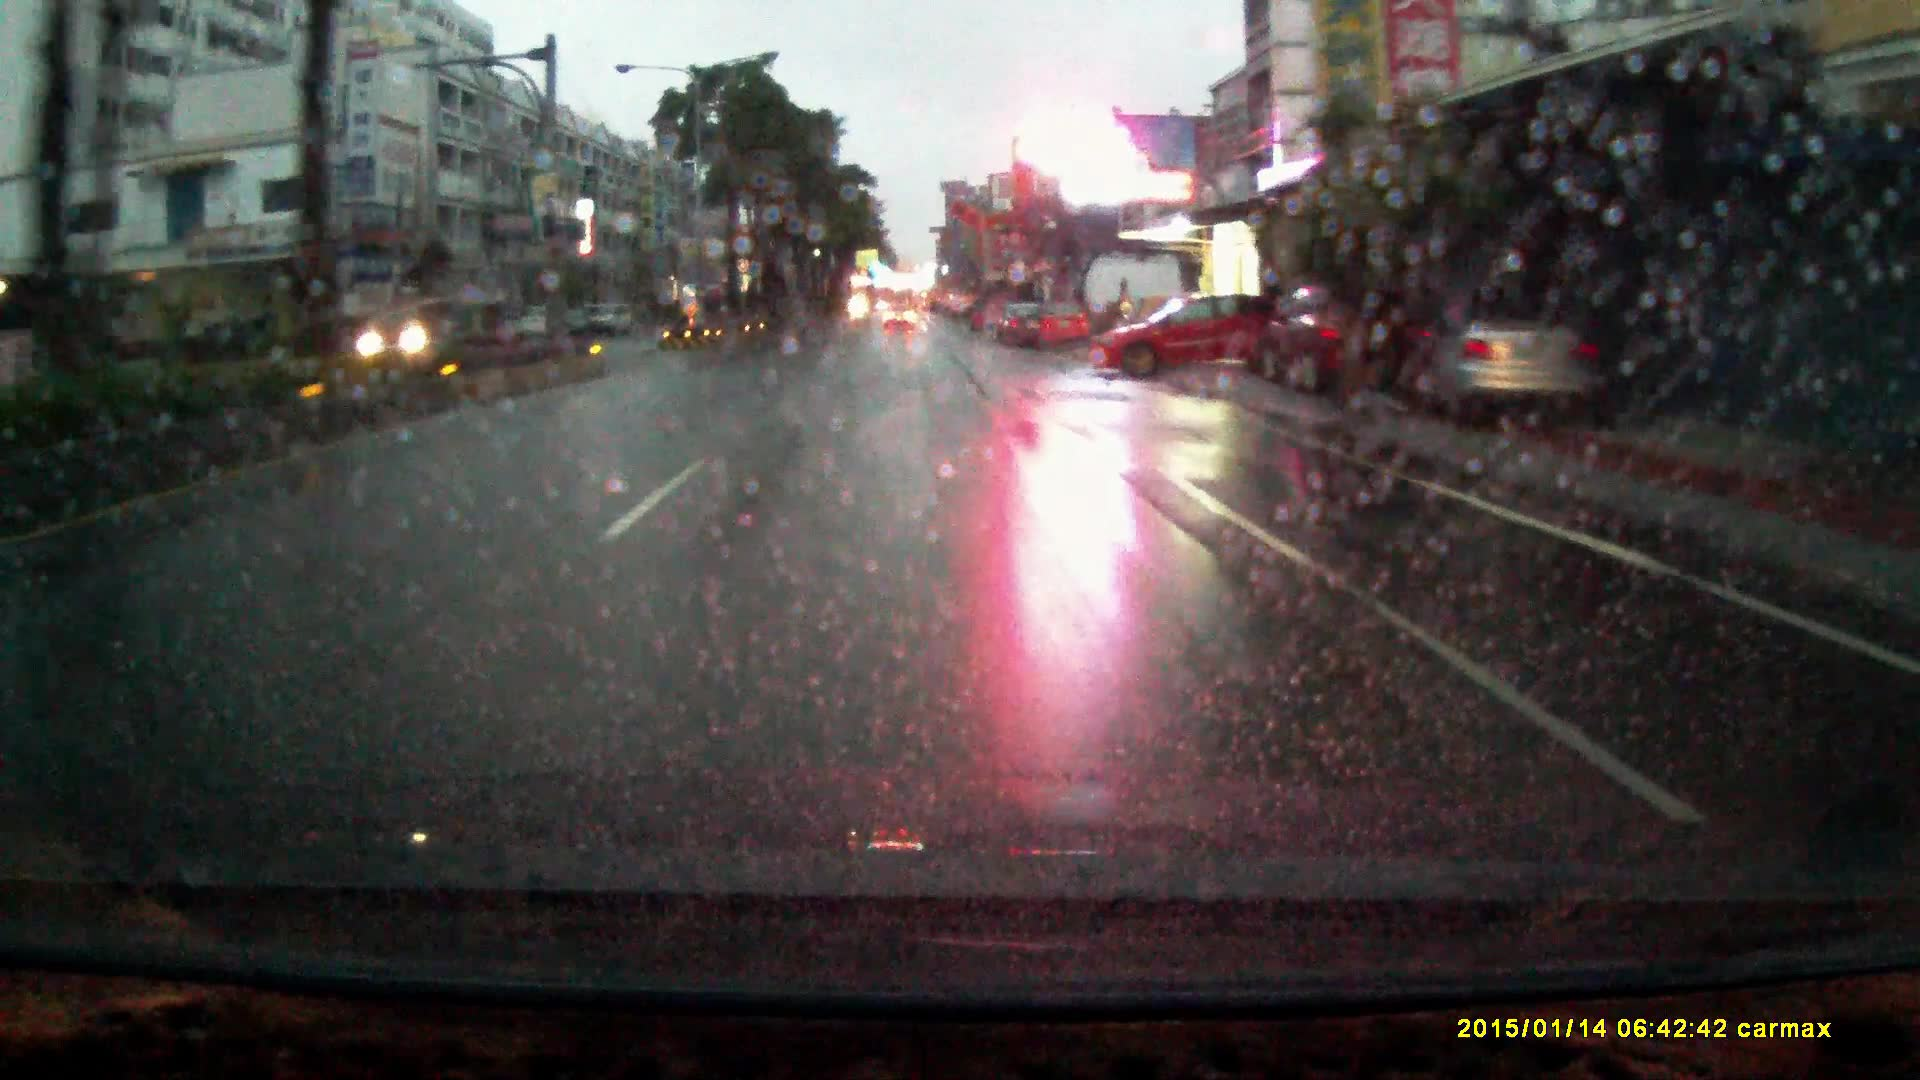vehicle: (1403, 293, 1593, 427), (1261, 276, 1433, 404), (1084, 287, 1276, 375), (349, 297, 463, 356), (1021, 295, 1091, 347), (994, 299, 1047, 345), (589, 301, 634, 336), (884, 303, 916, 331)
